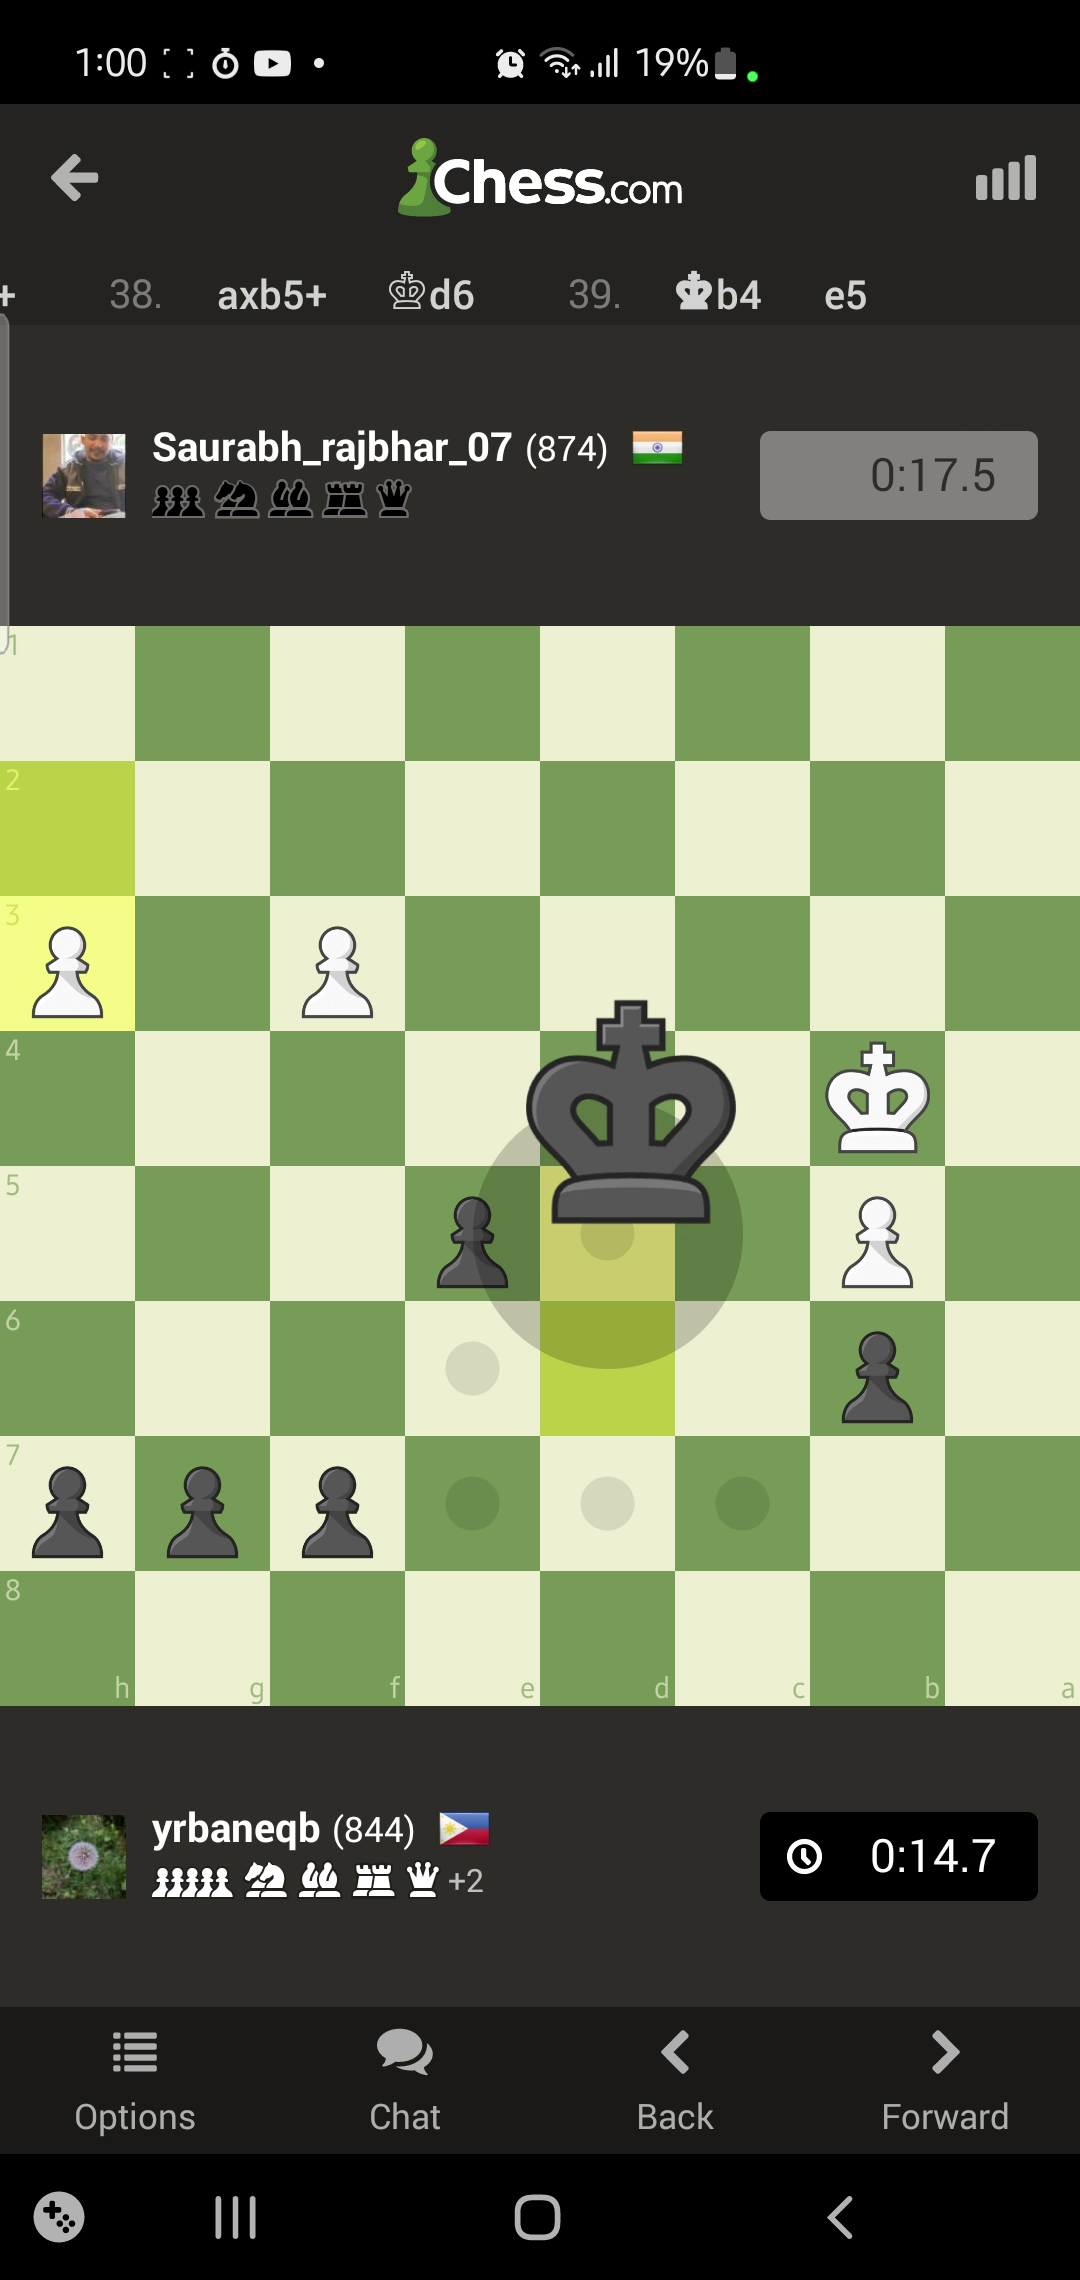king: (528, 1003, 736, 1227), (824, 1043, 927, 1152)
